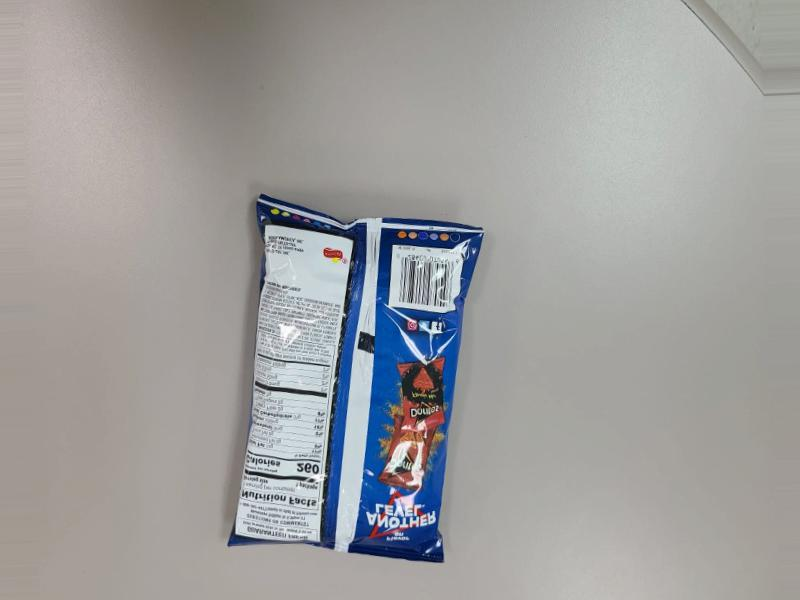doritos: (229, 216, 495, 598)
